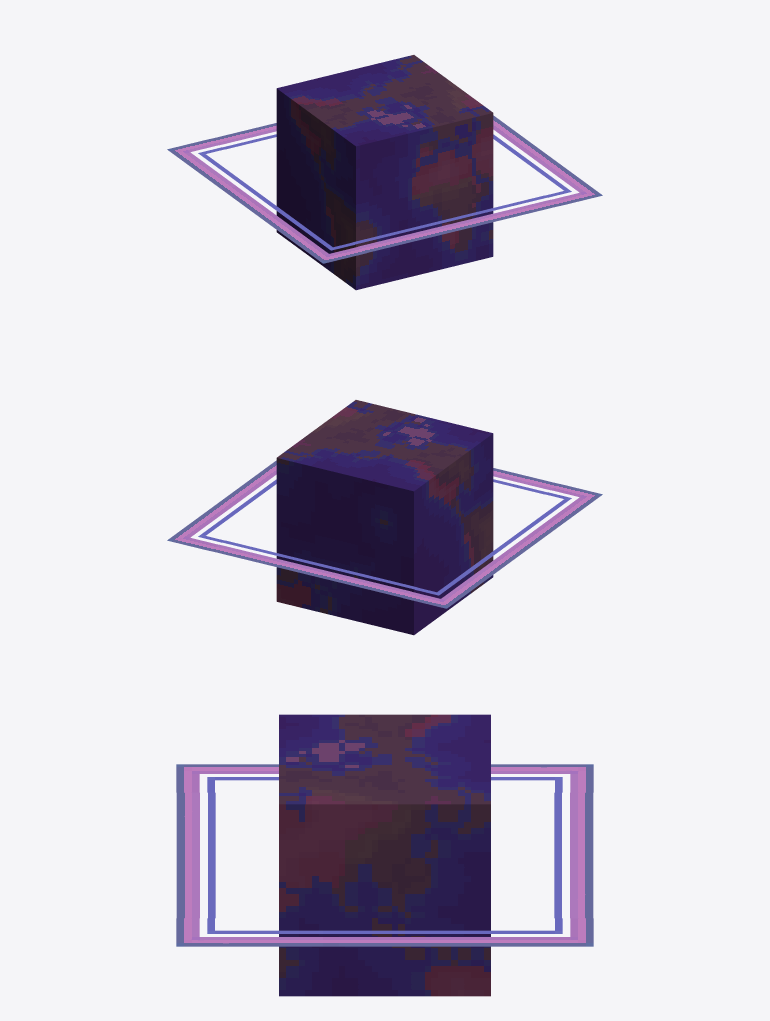
File: darkearth.gltf
The picture shows the model from 3 angles, top to bottom: view 1: azimuth 30°, elevation 25°; view 2: azimuth 150°, elevation 25°; view 3: azimuth 270°, elevation 25°; orthographic projection. The views are drawn at different scales.
Parts seen in each view (by area): view 1: cube (×5); view 2: cube (×5); view 3: cube (×5).
Part boxes in pixels (box(x1,y1,x2,y2)): cube (×5): box(167, 55, 602, 290); cube (×5): box(167, 400, 602, 635); cube (×5): box(176, 714, 593, 996).
Size of the model in its own units: 13.5 by 4 by 14.
Materials: 1 (1 with a texture image).
